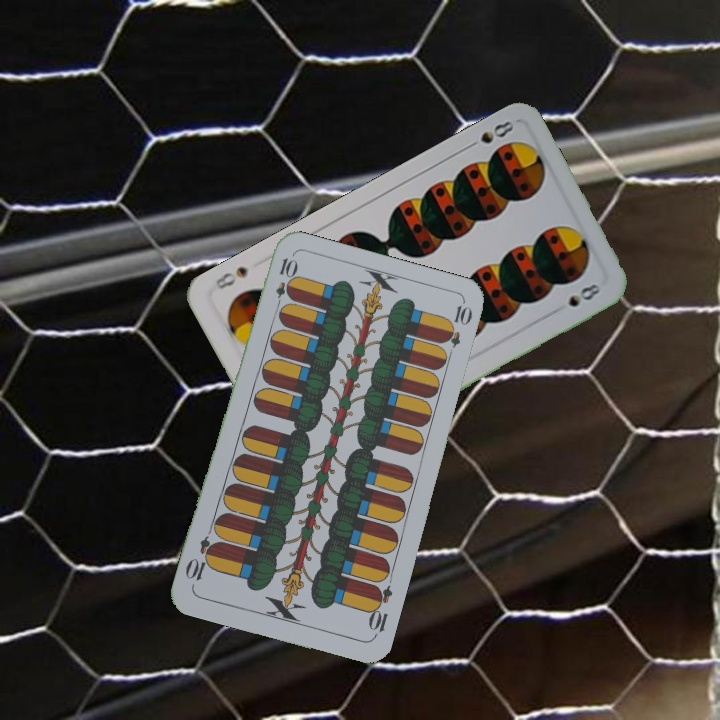E10: (364, 581, 395, 640), (271, 254, 297, 313)
S8: (461, 116, 517, 152)
